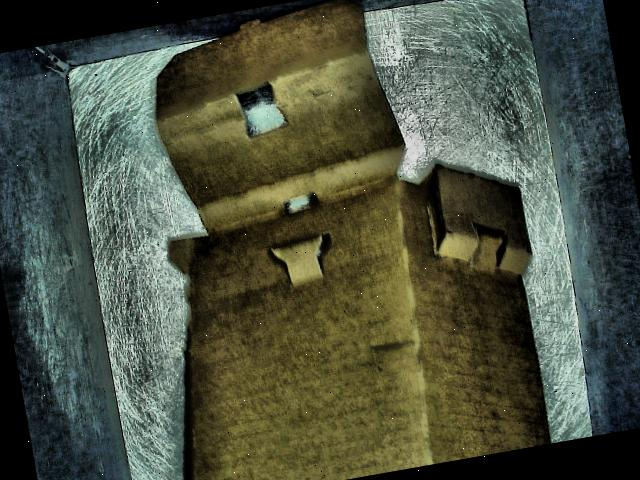Paper: (100, 0, 563, 480)
